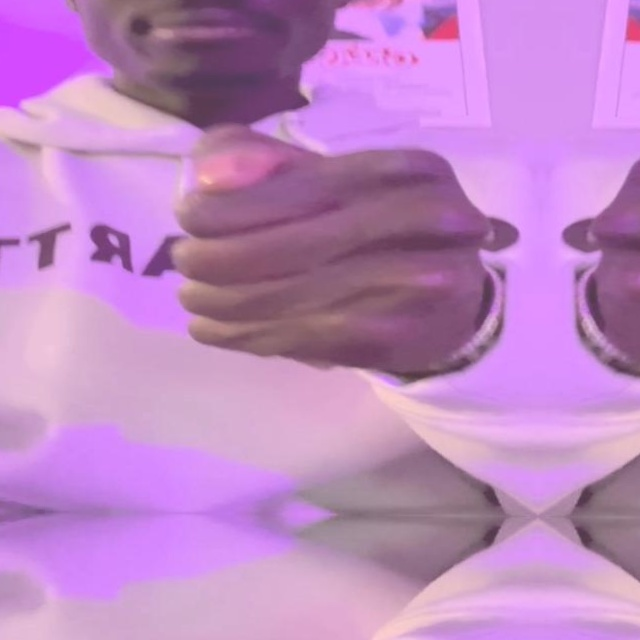Rock: (167, 125, 497, 375)
